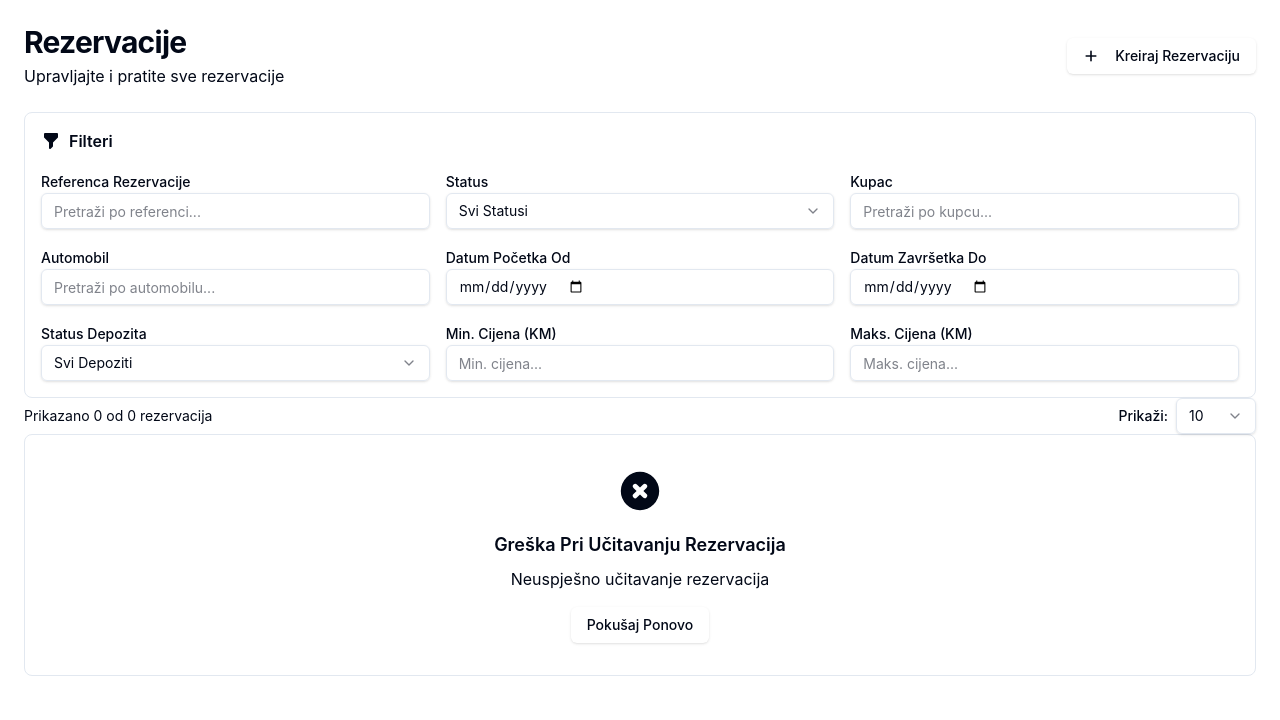
Test: BookingsPage › Error Handling › should show retry button on error
This screenshot has width=1280, height=720.
Expected: the heading "Greška Pri Učitavanju Rezervacija" is shown, [494,534,786,555]
What coordinates should you click on to do the following:
click the button "Pokušaj Ponovo"
I would click on:
 (640, 625)
Its box is [571,607,709,643].
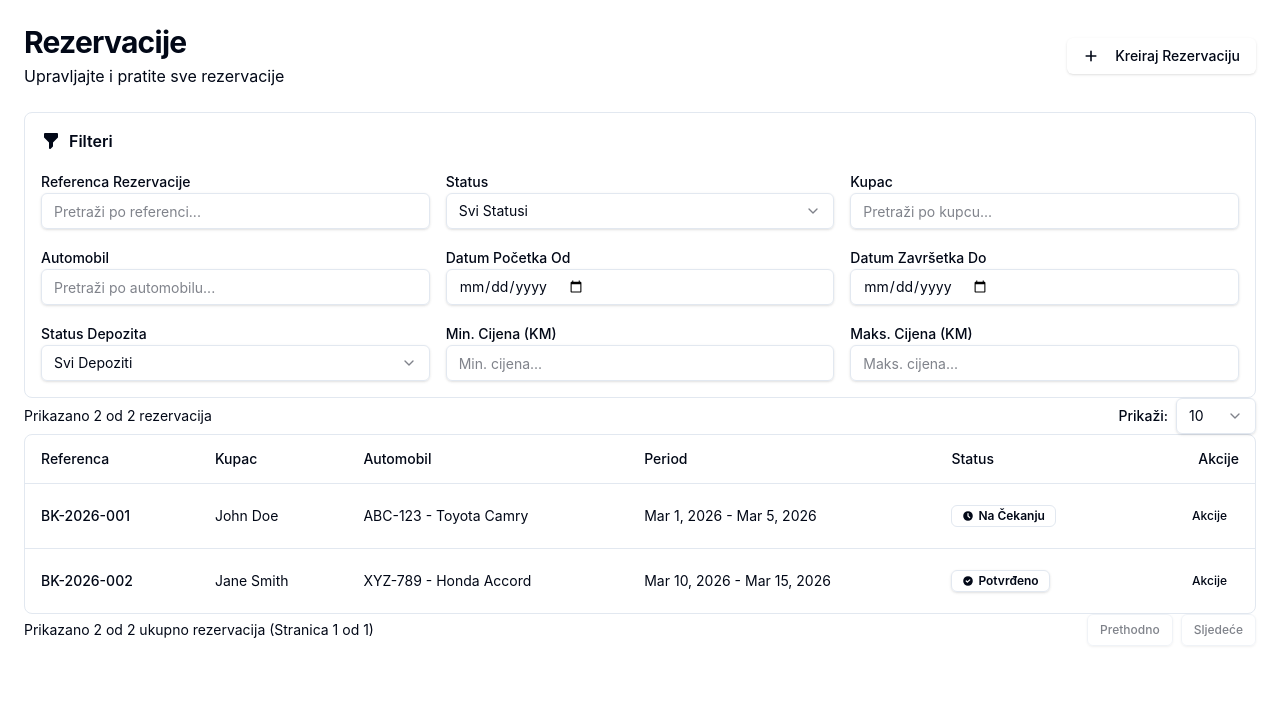
Expected: the text "BK-2026-001" is shown, [25,483,199,548]
